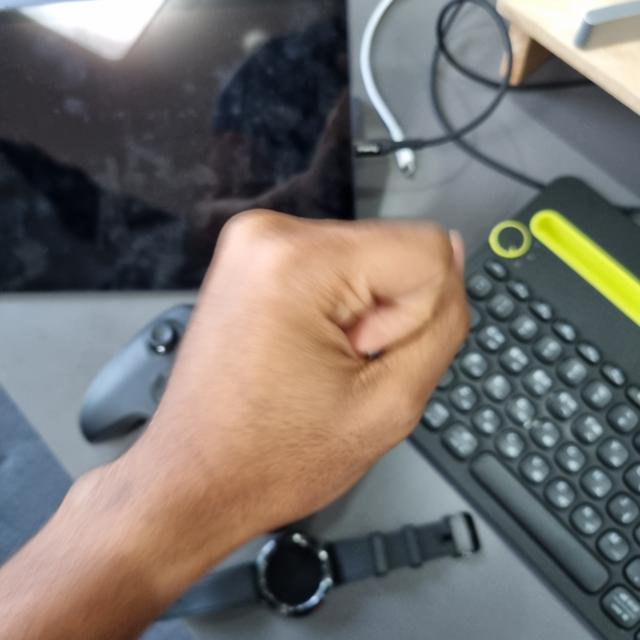Rock: (149, 215, 468, 525)
